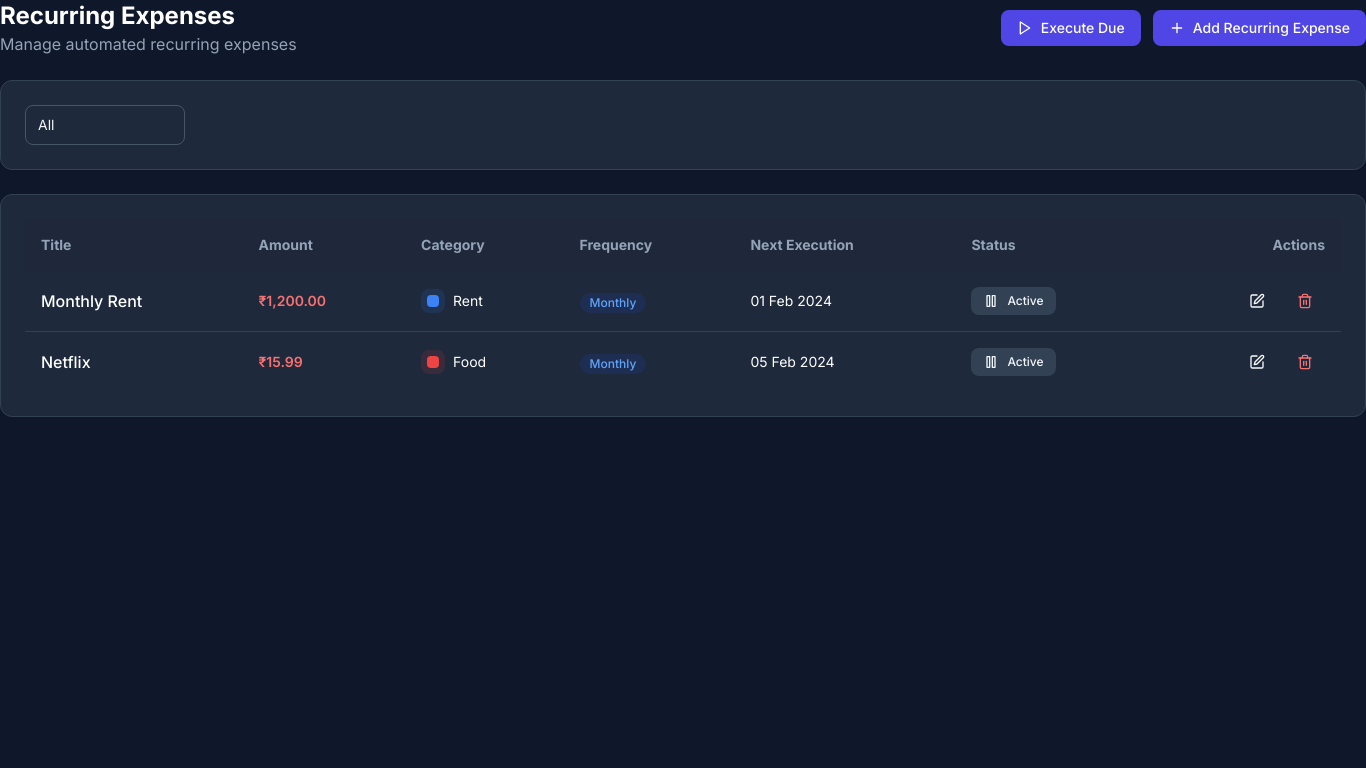
Test: Recurring Expenses Page › validates required fields
The width and height of the screenshot is (1366, 768).
Expected: the text "Monthly Rent" is shown, x1=41 y1=291 x2=142 y2=311
Click the button "Add Recurring Expense" at [1259, 28], box x1=1153 y1=10 x2=1365 y2=46
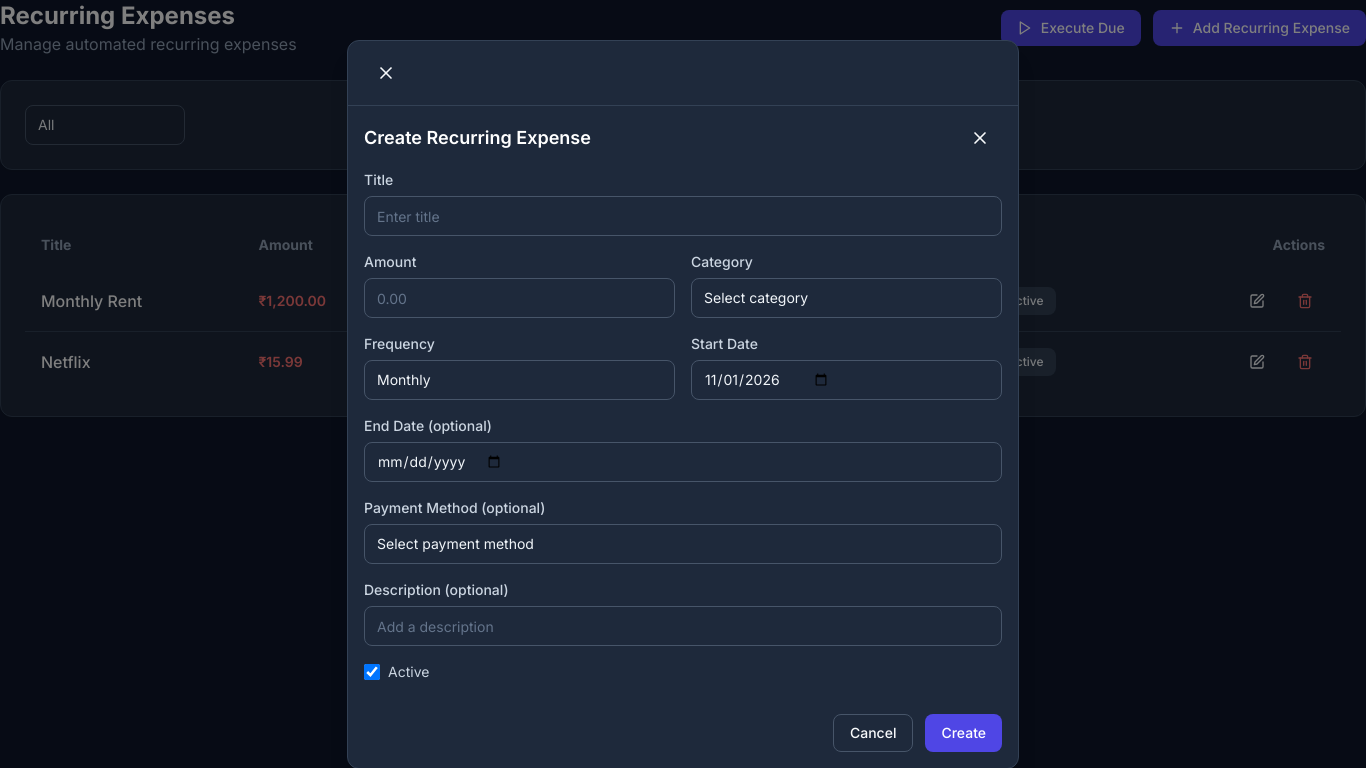
Clear the date field labelled "Start Date" at [846, 380], box x1=691 y1=360 x2=1002 y2=400
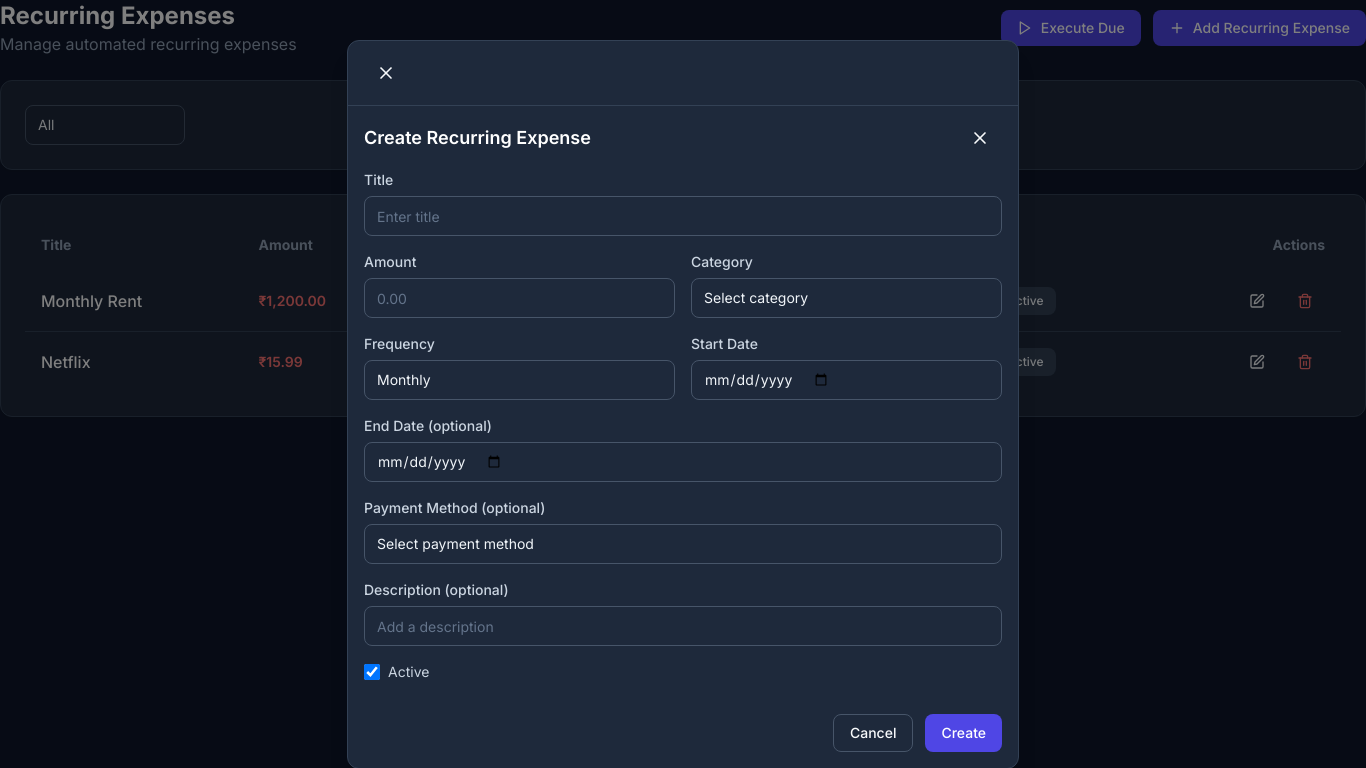
Click the button "Create" at [964, 733], box x1=925 y1=714 x2=1002 y2=752
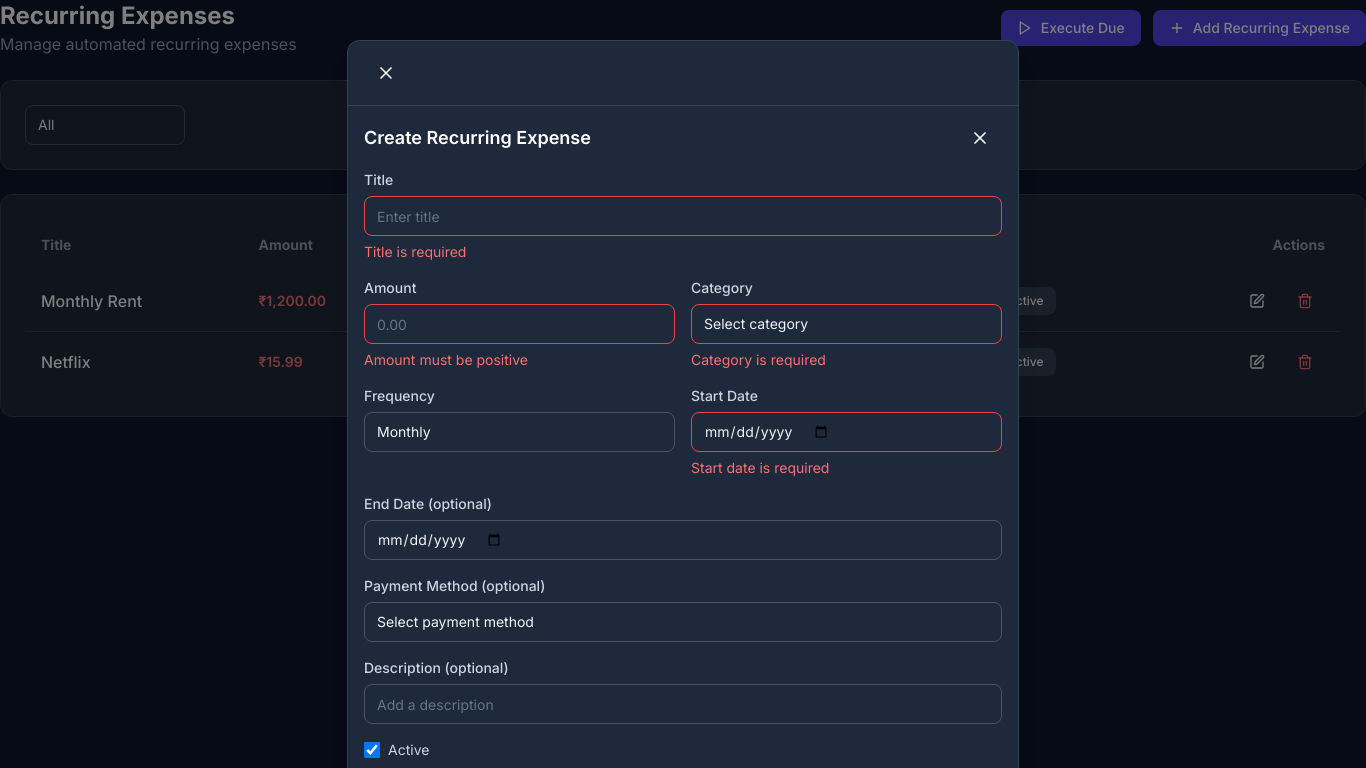
Expected: the text "Title is required" is shown, x1=364 y1=243 x2=466 y2=260
Expected: the text "Amount must be positive" is shown, x1=364 y1=351 x2=528 y2=368
Expected: the text "Category is required" is shown, x1=691 y1=351 x2=826 y2=368
